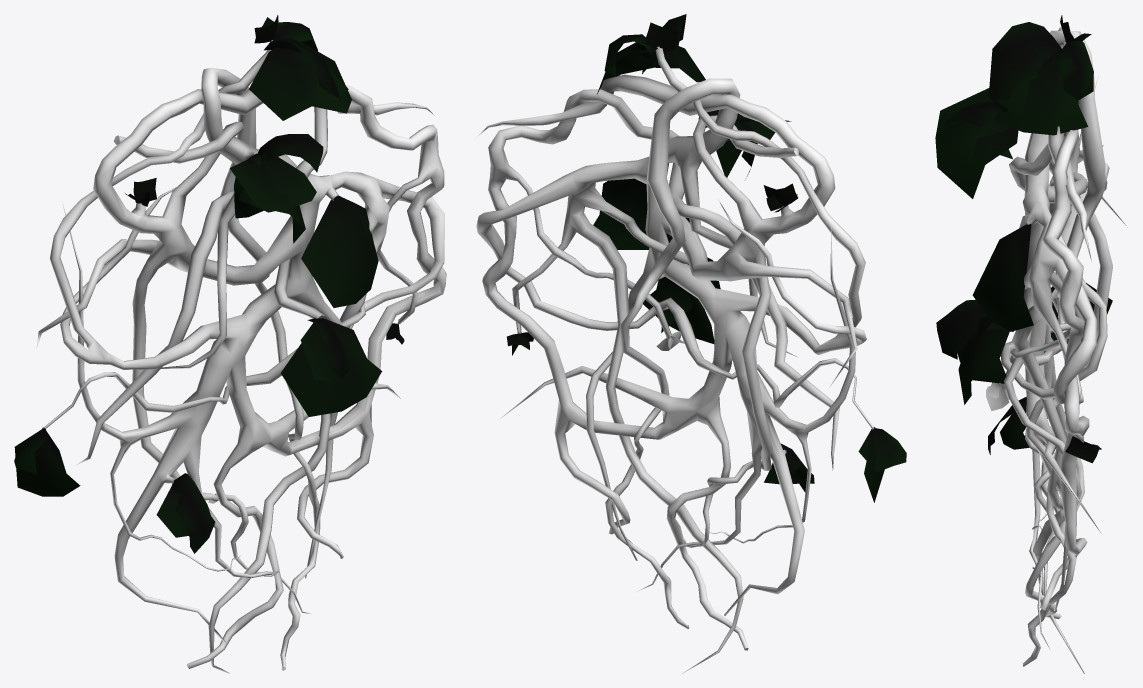
File: Nature_Shield_afsTREE_LOD1.fbx
The picture shows the model from 3 angles, left to right: view 1: azimuth 30°, elevation 25°; view 2: azimuth 150°, elevation 25°; view 3: azimuth 270°, elevation 25°; orthographic projection. The views are drawn at different scales.
Visible parts, largest first — view 1: trunk_xw00_xt00, branch01.013_xw02_xt05_xp07, branch01.018_xp03, branch01.011, branch01.021_xp05, branch01.009, branch01.010_xp05, branch01.023_xp04, branch01.008_xp07, branch01.020_xp10, branch01.005_xp09, branch01.019 (+4 smaller); view 2: trunk_xw00_xt00, branch01.013_xw02_xt05_xp07, branch01, branch01.018_xp03, branch01.007_xw16_xp10, branch01.020_xp10, branch01.021_xp05, branch01.006_xw15_xt15, branch01.011, branch01.004; view 3: trunk_xw00_xt00, branch01.013_xw02_xt05_xp07, branch01.007_xw16_xp10, branch01.005_xp09, branch01.010_xp05, branch01.019, branch01.020_xp10, branch01.006_xw15_xt15, branch01.009, branch01.018_xp03, branch01.008_xp07, branch01.011 (+3 smaller).
Boxes of the visible parts, x1,y1,x2,y2 form: trunk_xw00_xt00: (36,40,446,673); branch01.013_xw02_xt05_xp07: (301,196,378,307); branch01.018_xp03: (280,318,382,416); branch01.011: (249,47,348,120); branch01.021_xp05: (14,428,80,496); branch01.009: (238,152,316,212); branch01.010_xp05: (229,160,305,243); branch01.023_xp04: (172,473,215,553); branch01.008_xp07: (257,134,323,172); branch01.020_xp10: (300,323,336,382); branch01.005_xp09: (264,39,340,101); branch01.019: (307,318,348,378); trunk_xw00_xt00: (476,46,874,673); branch01.013_xw02_xt05_xp07: (593,178,689,249); branch01: (858,428,906,472); branch01.018_xp03: (643,277,714,343); branch01.007_xw16_xp10: (597,42,678,94); branch01.020_xp10: (661,279,720,332); branch01.021_xp05: (864,427,885,502); branch01.006_xw15_xt15: (604,34,656,76); branch01.011: (663,46,705,82); branch01.004: (644,22,678,50); trunk_xw00_xt00: (1000,27,1127,673); branch01.013_xw02_xt05_xp07: (972,224,1033,331); branch01.007_xw16_xp10: (994,49,1088,135); branch01.005_xp09: (988,22,1061,112); branch01.010_xp05: (935,88,1018,198); branch01.019: (936,299,1013,359); branch01.020_xp10: (957,328,1009,383); branch01.006_xw15_xt15: (1056,40,1093,100); branch01.009: (939,114,1010,162); branch01.018_xp03: (958,316,992,404); branch01.008_xp07: (945,102,999,127); branch01.011: (993,48,1061,117).
Size of the model in its own units: 3.05 by 4.39 by 1.14.
